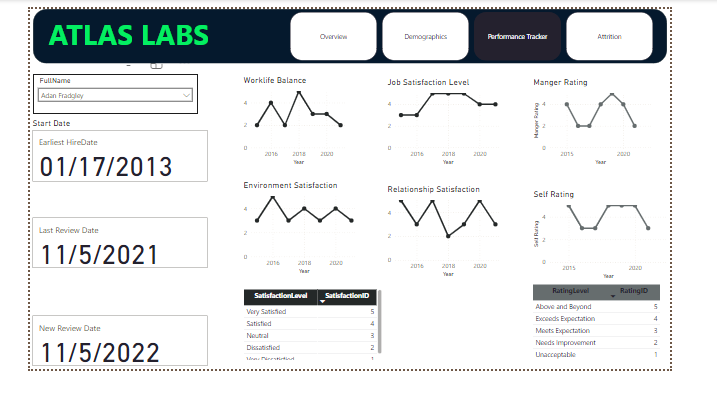

What the dashboard file says about the page in this screenshot:
{"tool":"powerbi","page":{"name":"Performance Tracker","canvas":[1280,720],"ordinal":2},"visuals":[{"type":"cardVisual","title":"Start Date","fields":{"Data":["Min(DimEmployee.HireDate)"]},"box":[0,217.5,360,132.2],"z":0},{"type":"cardVisual","fields":{"Data":["_Measures.Last Review Date"]},"box":[0,411.4,360,111.7],"z":1000},{"type":"cardVisual","fields":{"Data":["_Measures.New Review Date"]},"box":[0,608.3,360,111.7],"z":2000},{"type":"lineChart","title":"Environment Satisfaction ","fields":{"Y":["_Measures.Max Environment Satisfaction"],"Category":["DimDate.Date.Variation.Date Hierarchy.Year"]},"box":[422.2,341.2,238.9,192.2],"z":3000},{"type":"lineChart","title":"Relationship Satisfaction","fields":{"Y":["_Measures.Max Relationship Satisfaction"],"Category":["DimDate.Date.Variation.Date Hierarchy.Year"]},"box":[710,350,238.9,191.1],"z":4000},{"type":"lineChart","title":"Self Rating","fields":{"Y":["_Measures.Self Rating"],"Category":["DimDate.Year"]},"box":[1001.1,360.1,278.9,185.6],"z":5000},{"type":"shape","box":[5.9,0,1268.2,109],"z":5500,"group":"g1"},{"type":"textbox","box":[31.3,6,440.7,97.1],"z":6000,"group":"g1"},{"type":"lineChart","title":"Worklife Balance","fields":{"Y":["_Measures.Max Worklife Balance"],"Category":["DimDate.Date.Variation.Date Hierarchy.Year"]},"box":[422.9,131.4,217.1,184.3],"z":6000},{"type":"lineChart","title":"Job Satisfaction Level ","fields":{"Y":["_Measures.Max Job Satisfaction Level"],"Category":["DimDate.Date.Variation.Date Hierarchy.Year"]},"box":[710,135.6,238.9,180],"z":7000},{"type":"pageNavigator","box":[519.8,6,729,97.1],"z":8000,"group":"g1"},{"type":"lineChart","title":"Manger Rating","fields":{"Y":["_Measures.Manger Rating"],"Category":["DimDate.Year"]},"box":[1001.1,135.6,247.8,180],"z":8000},{"type":"tableEx","fields":{"Values":["DimSatisfiedLevel.SatisfactionLevel","DimSatisfiedLevel.SatisfactionID"]},"box":[422.9,555.7,287.1,151.4],"z":9000},{"type":"tableEx","fields":{"Values":["DimRatingLevel.RatingLevel","DimRatingLevel.RatingID"]},"box":[1000,545.7,280,174.3],"z":10000},{"type":"slicer","fields":{"Values":["DimEmployee.FullName"]},"box":[5.9,130.8,329.1,79.3],"z":11000},{"type":"group","id":"g1","title":"Group 1","box":[5.9,0,1268.1,108.7],"z":12000}]}

Visuals, with their boxes in screenshot pixels (x1, y1, x2, y2), scaled from the page's 1280x720 canvas onto the 717x400 screenshot:
"Start Date" cardVisual: {"left": 0, "top": 121, "right": 202, "bottom": 194}
cardVisual - _Measures.Last Review Date: {"left": 0, "top": 229, "right": 202, "bottom": 291}
cardVisual - _Measures.New Review Date: {"left": 0, "top": 338, "right": 202, "bottom": 399}
"Environment Satisfaction " lineChart: {"left": 236, "top": 190, "right": 370, "bottom": 296}
"Relationship Satisfaction" lineChart: {"left": 398, "top": 194, "right": 532, "bottom": 301}
"Self Rating" lineChart: {"left": 561, "top": 200, "right": 716, "bottom": 303}
shape: {"left": 3, "top": 0, "right": 714, "bottom": 61}
textbox: {"left": 18, "top": 3, "right": 264, "bottom": 57}
"Worklife Balance" lineChart: {"left": 237, "top": 73, "right": 358, "bottom": 175}
"Job Satisfaction Level " lineChart: {"left": 398, "top": 75, "right": 532, "bottom": 175}
pageNavigator: {"left": 291, "top": 3, "right": 700, "bottom": 57}
"Manger Rating" lineChart: {"left": 561, "top": 75, "right": 700, "bottom": 175}
tableEx - DimSatisfiedLevel.SatisfactionLevel x DimSatisfiedLevel.SatisfactionID: {"left": 237, "top": 309, "right": 398, "bottom": 393}
tableEx - DimRatingLevel.RatingLevel x DimRatingLevel.RatingID: {"left": 560, "top": 303, "right": 716, "bottom": 399}
slicer - DimEmployee.FullName: {"left": 3, "top": 73, "right": 188, "bottom": 117}
"Group 1" group: {"left": 3, "top": 0, "right": 714, "bottom": 60}
